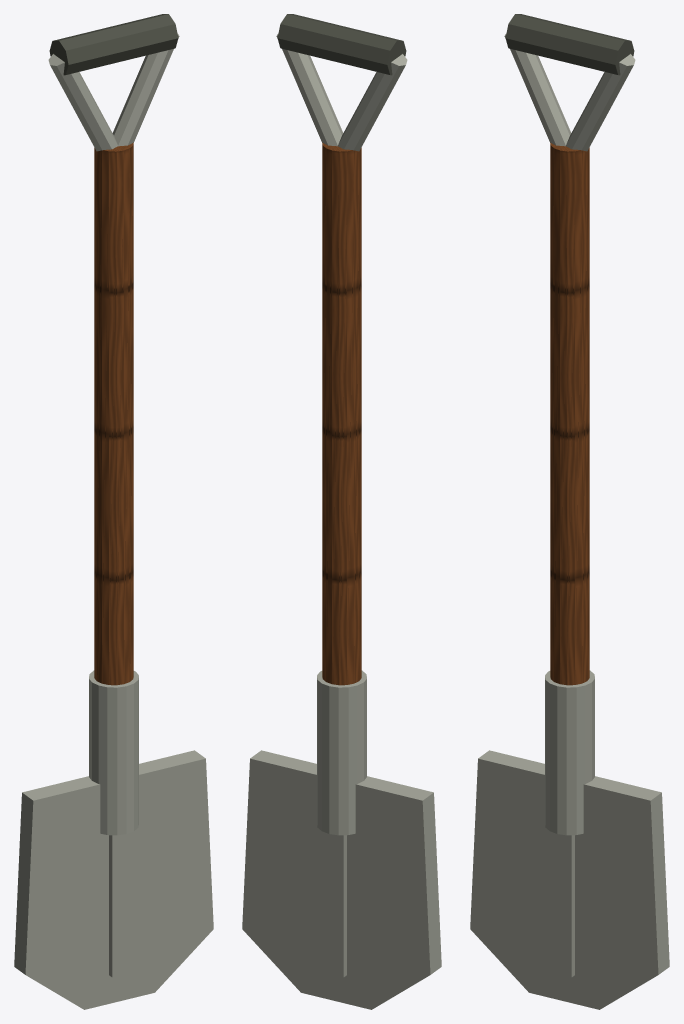
Rendered from reclamation-yard-field-trenching-shovel__233.glb.
3 views of the same model, side by side, from view 1: azimuth 30°, elevation 25°; view 2: azimuth 150°, elevation 25°; view 3: azimuth 330°, elevation 25° (orthographic).
Visible parts, largest first — view 1: metal, wood, dark; view 2: metal, wood, dark; view 3: metal, wood, dark.
Part boxes in pixels (x1,y1,x2,y2): metal: (14, 34, 213, 1009); wood: (94, 142, 133, 685); dark: (49, 14, 178, 75); metal: (242, 34, 441, 1009); wood: (322, 142, 361, 685); dark: (277, 14, 406, 75); metal: (470, 34, 669, 1009); wood: (550, 142, 589, 685); dark: (505, 14, 634, 75).
Bounding box in the file's own units: 0.24 × 1.18 × 0.056.
Materials: 3 (1 with a texture image).
